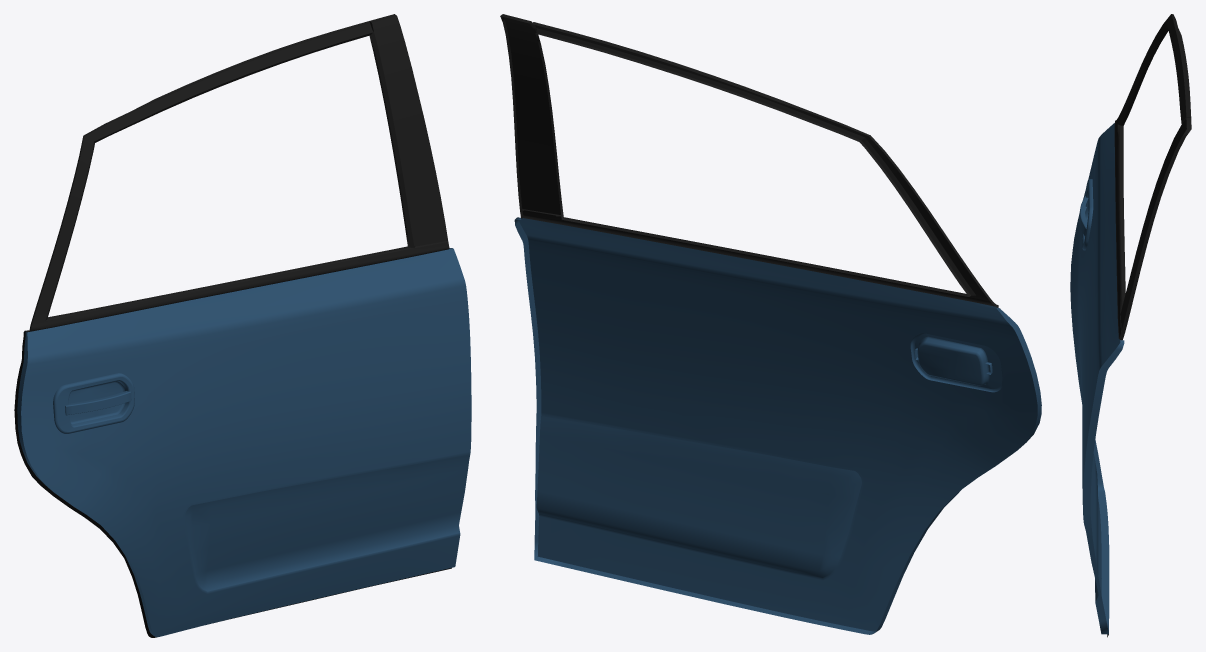
3 views of the same model, side by side, from view 1: azimuth 30°, elevation 25°; view 2: azimuth 150°, elevation 25°; view 3: azimuth 270°, elevation 25° (orthographic). The views are drawn at different scales.
Visible parts, largest first — view 1: Y191_13_321B_R_1_DaS_Y191_13_321B_R, Y191_13_321B_R_1_DaS_Y191_13_321B_R_E, Y191_13_321B_R_Y191_13_321B_R_2_D, Y191_13_321B_R_Y191_13_321B_R_3_D, Y191_13_321B_R_Y191_13_321B_R_4_DaS; view 2: Y191_13_321B_R_1_DaS_Y191_13_321B_R, Y191_13_321B_R_1_DaS_Y191_13_321B_R_E, Y191_13_321B_R_Y191_13_321B_R_2_D; view 3: Y191_13_321B_R_1_DaS_Y191_13_321B_R, Y191_13_321B_R_Y191_13_321B_R_2_D, Y191_13_321B_R_1_DaS_Y191_13_321B_R_E, Y191_13_321B_R_Y191_13_321B_R_4_DaS.
Boxes of the visible parts, x1,y1,x2,y2 form: Y191_13_321B_R_1_DaS_Y191_13_321B_R: [21, 248, 471, 637]; Y191_13_321B_R_1_DaS_Y191_13_321B_R_E: [17, 248, 469, 635]; Y191_13_321B_R_Y191_13_321B_R_2_D: [26, 14, 449, 332]; Y191_13_321B_R_Y191_13_321B_R_3_D: [14, 330, 451, 637]; Y191_13_321B_R_Y191_13_321B_R_4_DaS: [65, 391, 131, 415]; Y191_13_321B_R_1_DaS_Y191_13_321B_R: [518, 218, 1037, 631]; Y191_13_321B_R_1_DaS_Y191_13_321B_R_E: [514, 217, 1041, 634]; Y191_13_321B_R_Y191_13_321B_R_2_D: [500, 14, 998, 307]; Y191_13_321B_R_1_DaS_Y191_13_321B_R: [1070, 123, 1120, 602]; Y191_13_321B_R_Y191_13_321B_R_2_D: [1114, 14, 1191, 340]; Y191_13_321B_R_1_DaS_Y191_13_321B_R_E: [1082, 179, 1124, 634]; Y191_13_321B_R_Y191_13_321B_R_4_DaS: [1079, 196, 1088, 236].
Bounding box in the file's own units: 99.4 × 110 × 24.
